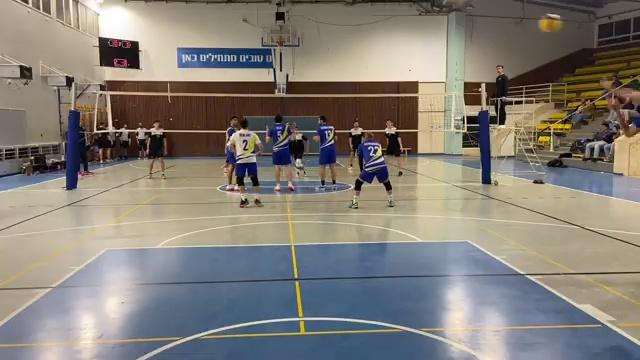ball: (539, 12, 564, 33)
